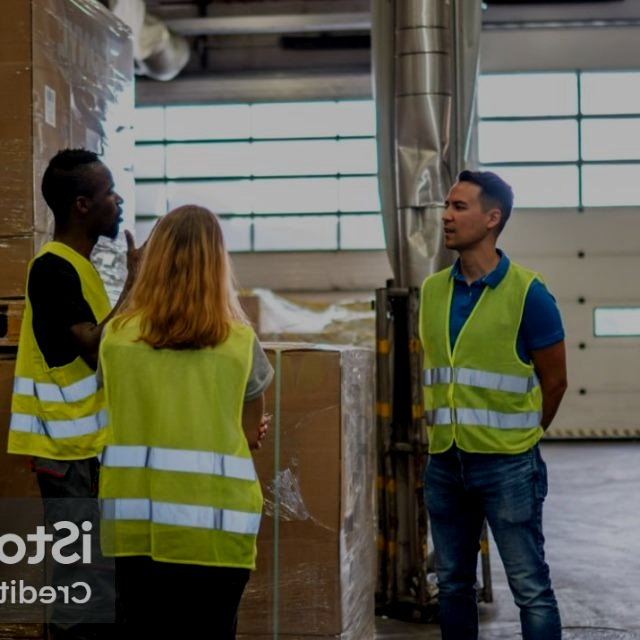Con_Chaleco: (99, 314, 255, 570), (414, 270, 556, 454), (5, 246, 110, 457)
Sin_Casco_Mascarrilla: (142, 202, 230, 309), (37, 148, 125, 245), (439, 170, 515, 256)
